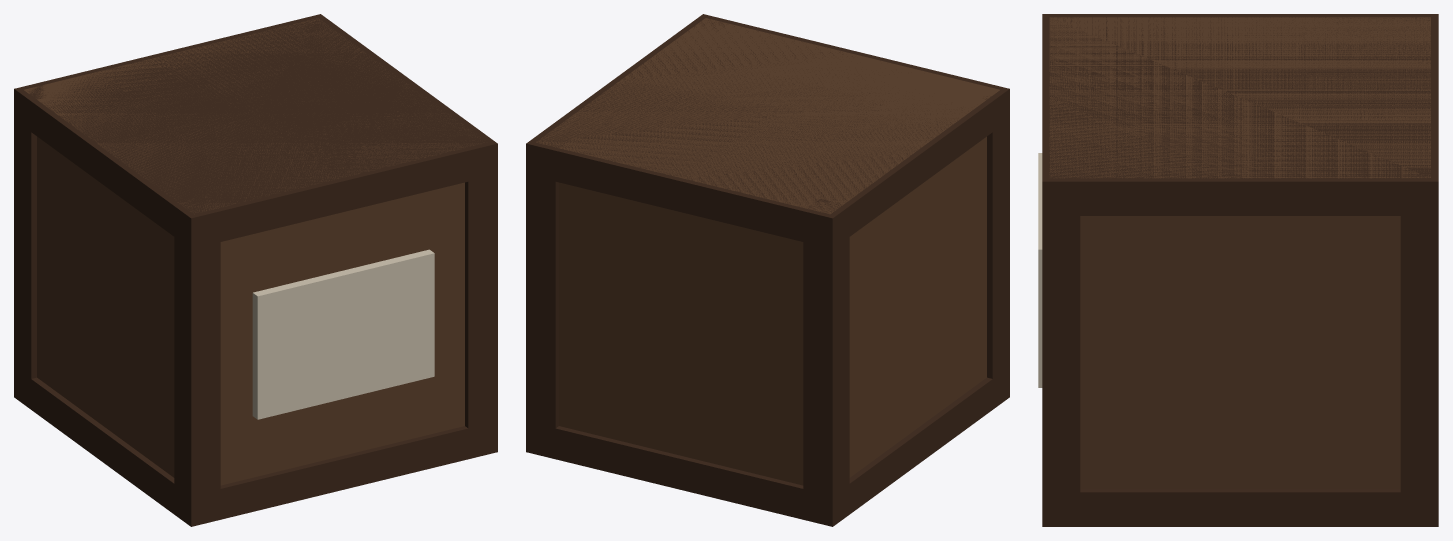
Rendered from dd_crate.glb.
3 views of the same model, side by side, from view 1: azimuth 30°, elevation 25°; view 2: azimuth 150°, elevation 25°; view 3: azimuth 270°, elevation 25° (orthographic). The views are drawn at different scales.
Visible parts, largest first — view 1: DUBG_dd_crate; view 2: DUBG_dd_crate; view 3: DUBG_dd_crate.
Part boxes in pixels (x1,y1,x2,y2): DUBG_dd_crate: (14, 14, 497, 526); DUBG_dd_crate: (526, 14, 1009, 526); DUBG_dd_crate: (1038, 14, 1438, 526).
Bounding box in the file's own units: 2.42 × 2.33 × 2.45.
